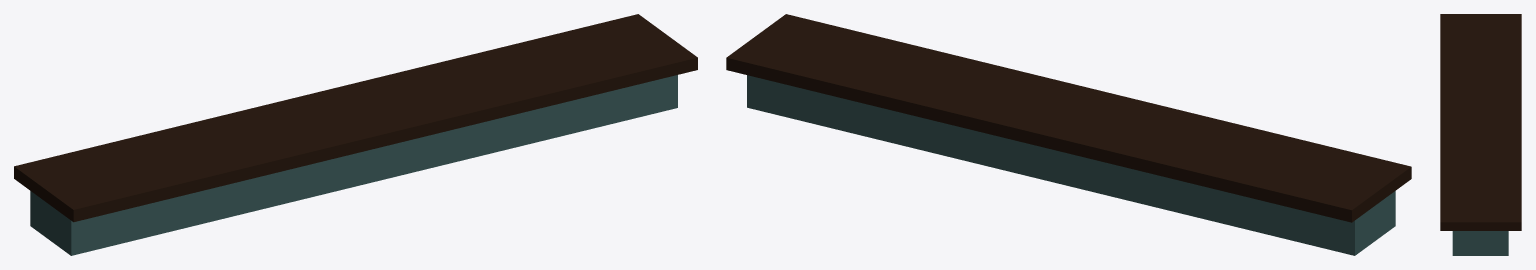
The model's file is bettercounter.obj.
3 renders of one model, left to right at view 1: azimuth 30°, elevation 25°; view 2: azimuth 150°, elevation 25°; view 3: azimuth 270°, elevation 25°, orthographic. The views are drawn at different scales.
Parts seen in each view (by area): view 1: Cube.001, Cube; view 2: Cube.001, Cube; view 3: Cube.001, Cube.
Part boxes in pixels (x1=…): Cube.001: x1=14, y1=14, x2=697, y2=222; Cube: x1=30, y1=75, x2=677, y2=255; Cube.001: x1=726, y1=14, x2=1411, y2=222; Cube: x1=747, y1=75, x2=1395, y2=255; Cube.001: x1=1440, y1=14, x2=1521, y2=230; Cube: x1=1452, y1=231, x2=1508, y2=255.
Bounding box in the file's own units: 17.66 × 1.47 × 2.92.
